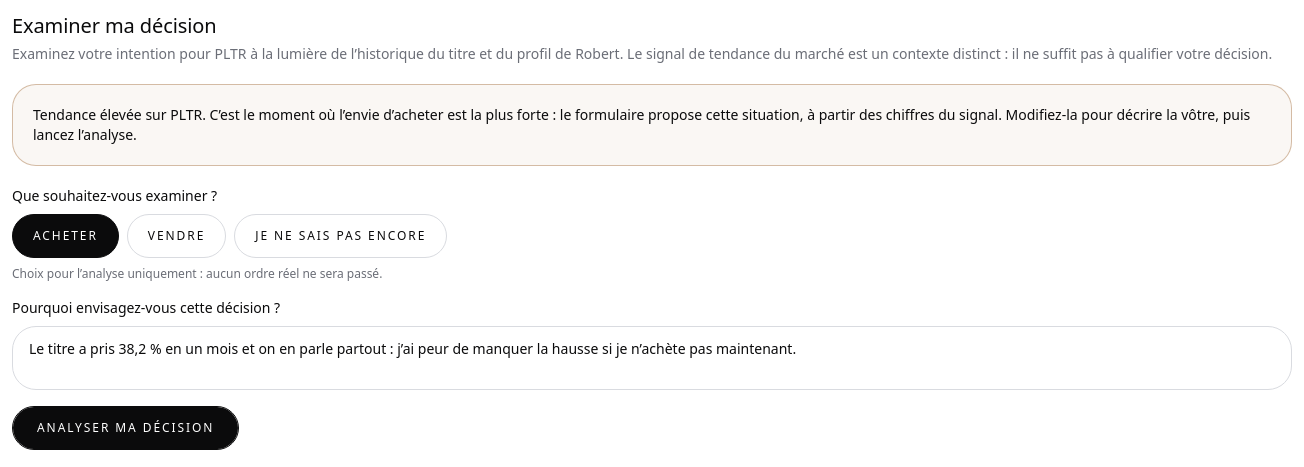
Test case: proposes the tempted buyer’s case while the hype is high, and lets the user write their own
Expected: the element that starts with "Tendance élevée sur" shows "Tendance élevée sur PLTR.", [12,84,1292,166]
Expected: the radio button labelled "Acheter" is checked, [12,214,119,258]
Replace the text in the text box labelled "Pourquoi envisagez-vous cette décision ?" with "Mon beau-frère en a acheté": (652, 358) [12,326,1292,390]
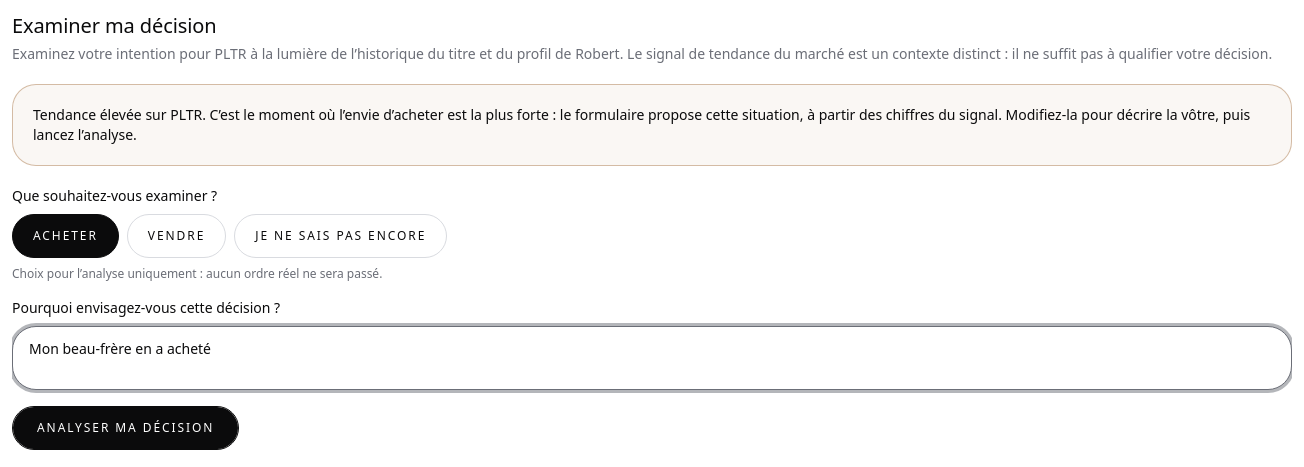
Click the radio button labelled "Je ne sais pas encore": click(341, 236) [234,214,447,258]
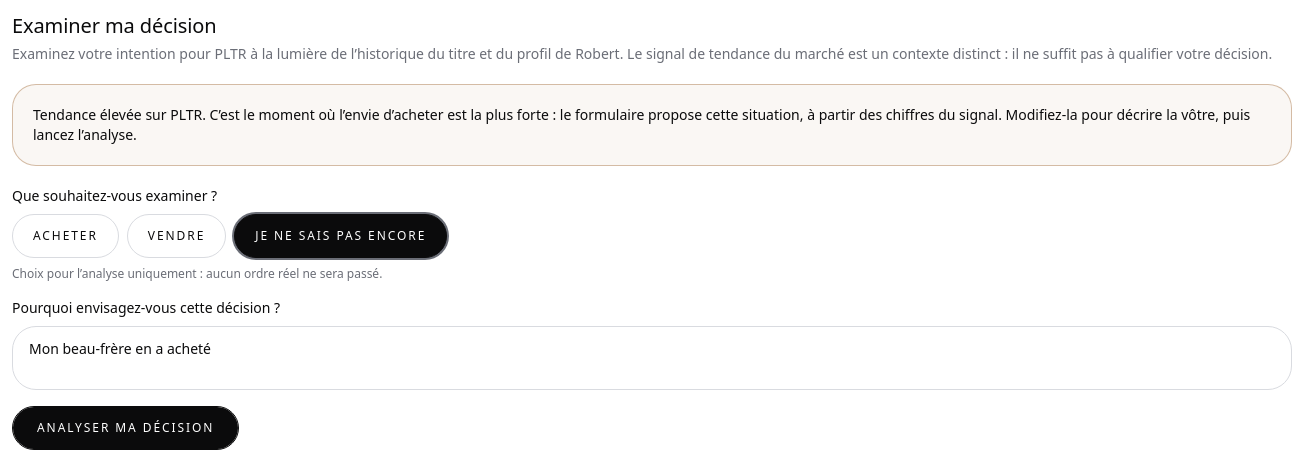
Now the radio button labelled "Acheter" is not checked, box [12,214,119,258]
